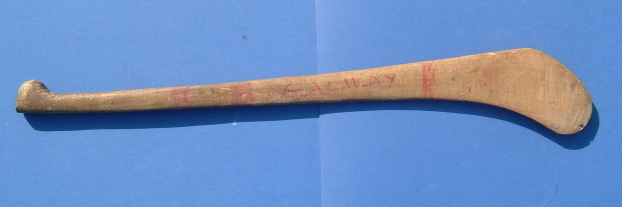hurley: (9, 38, 603, 138)
